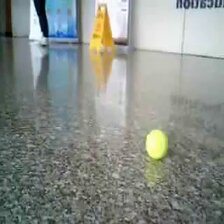tennis: (146, 129, 169, 160)
